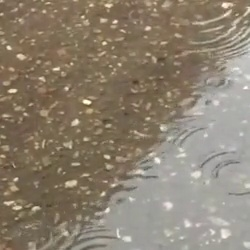drop: (202, 152, 250, 195), (62, 228, 122, 250), (206, 78, 226, 89)
